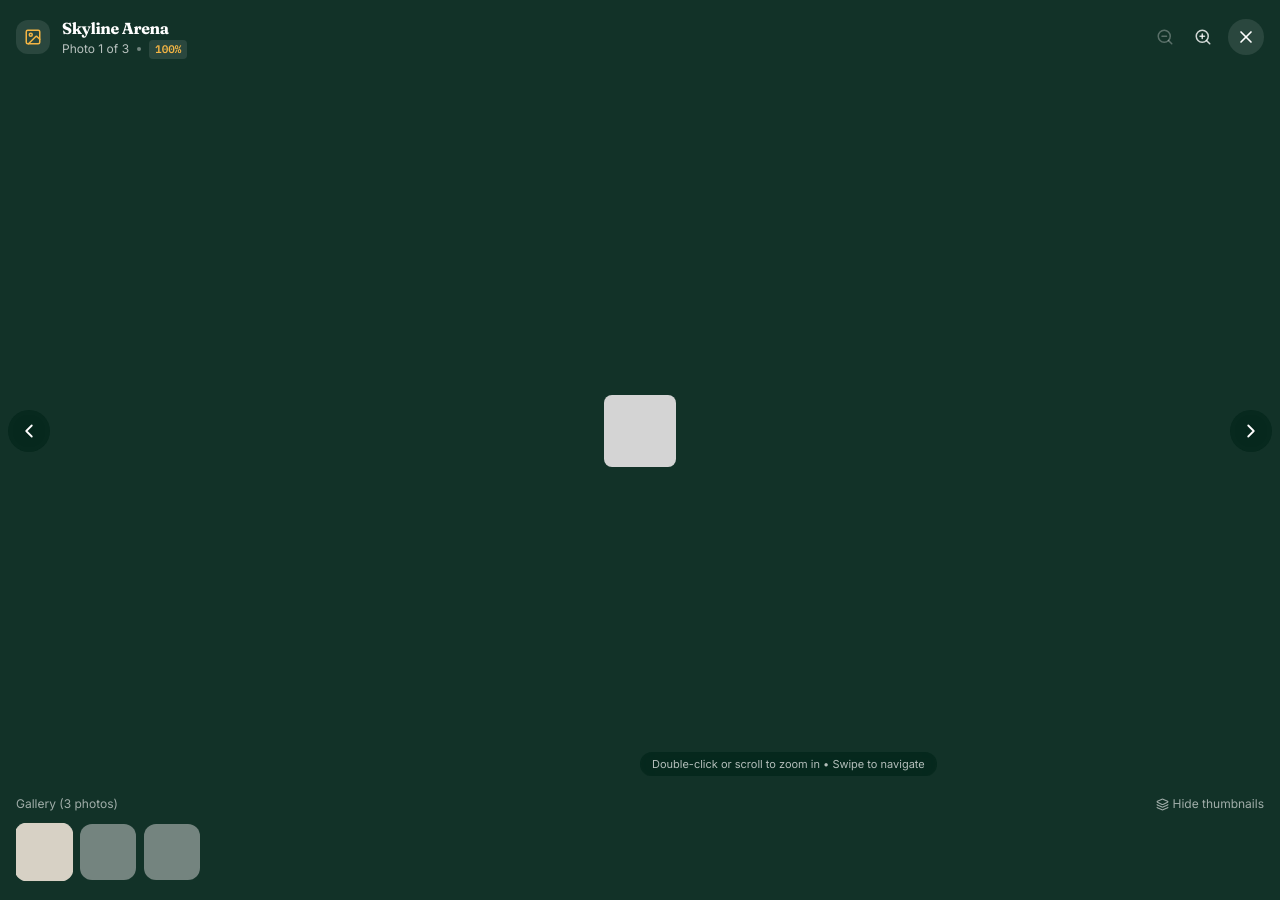
Scenario: VenueImageLightbox component › navigates to next and previous photos via navigation buttons
The image size is (1280, 900).
Click the button named "next photo". click: (1251, 431)
box: [1230,410,1272,452]
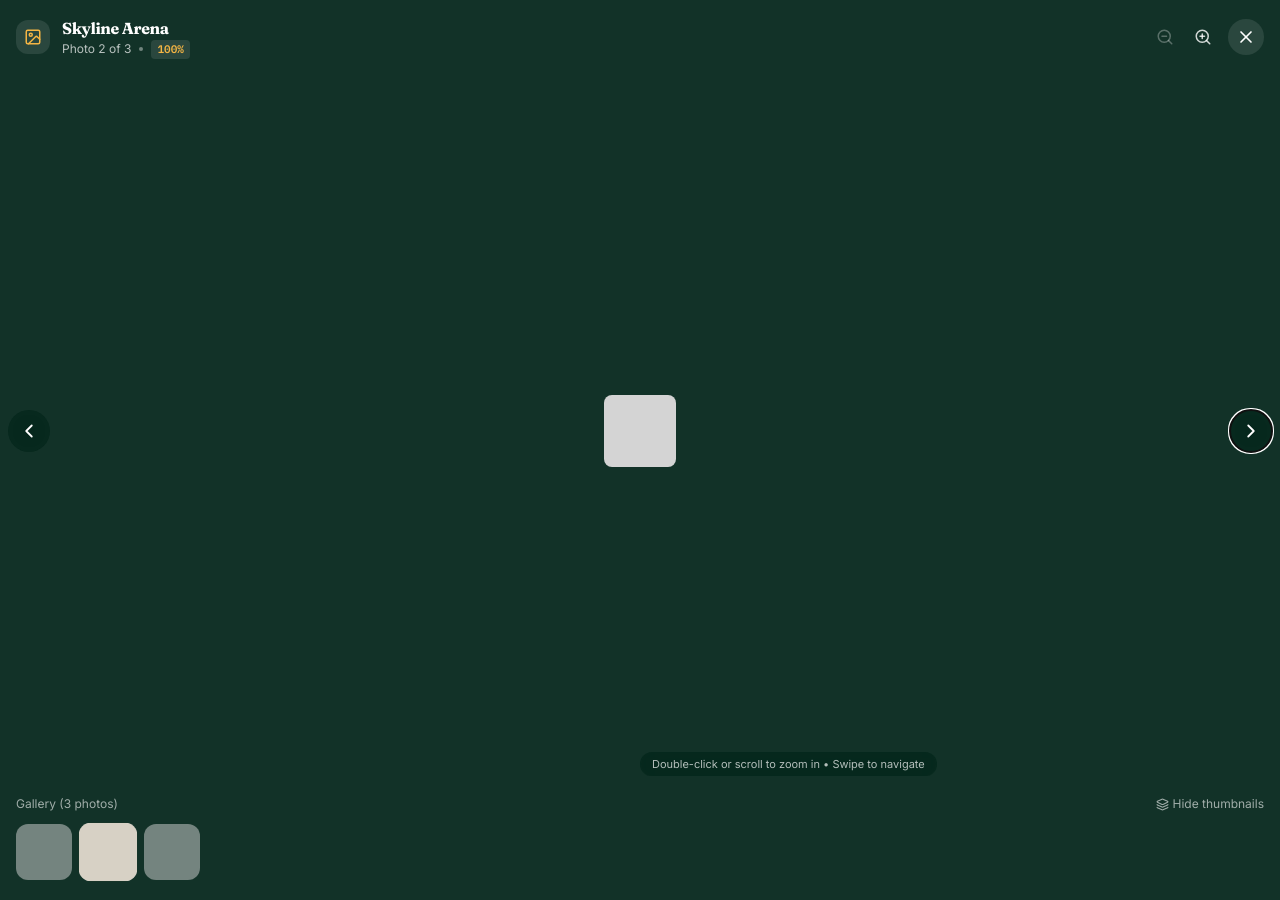
Now the text "Photo 2 of 3" is shown, box [62,41,132,57]
Click the button named "previous photo". click: (29, 431)
box: [8,410,50,452]
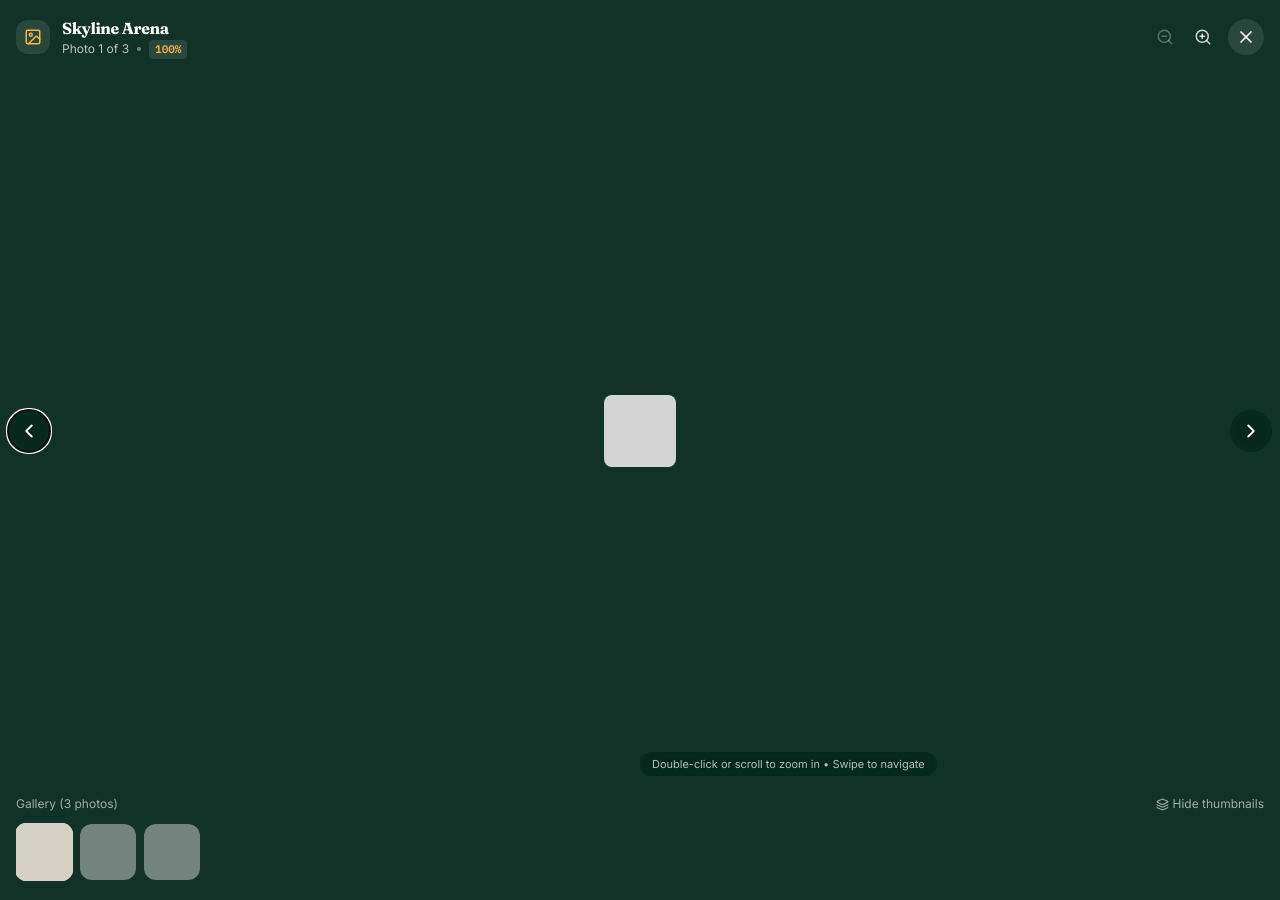
Now the text "Photo 1 of 3" is shown, box [62,41,129,57]
